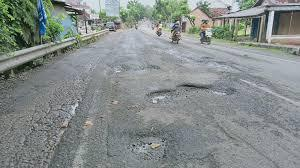Pothole: (136, 81, 254, 109), (122, 128, 174, 163), (110, 60, 164, 79), (199, 50, 238, 75)
